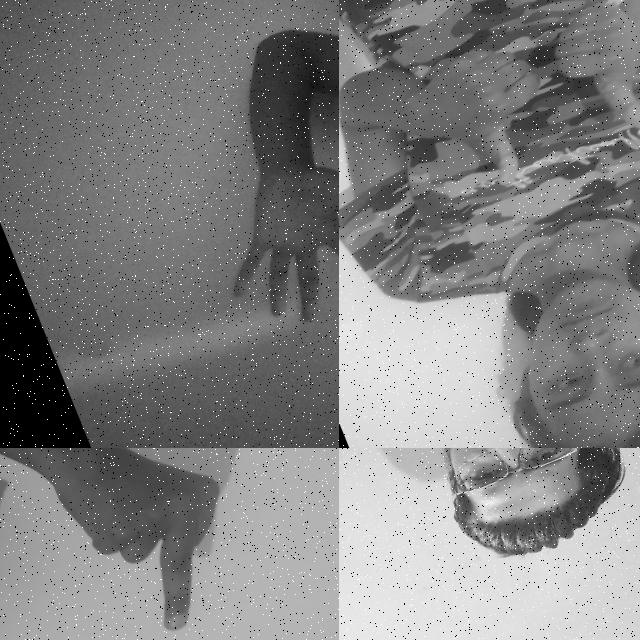Fist Mouth: (352, 448, 640, 586)
Middle Finger: (20, 448, 268, 640)
Moutza: (184, 111, 339, 354)
Thumbs Up: (403, 31, 574, 212), (535, 0, 640, 156)
